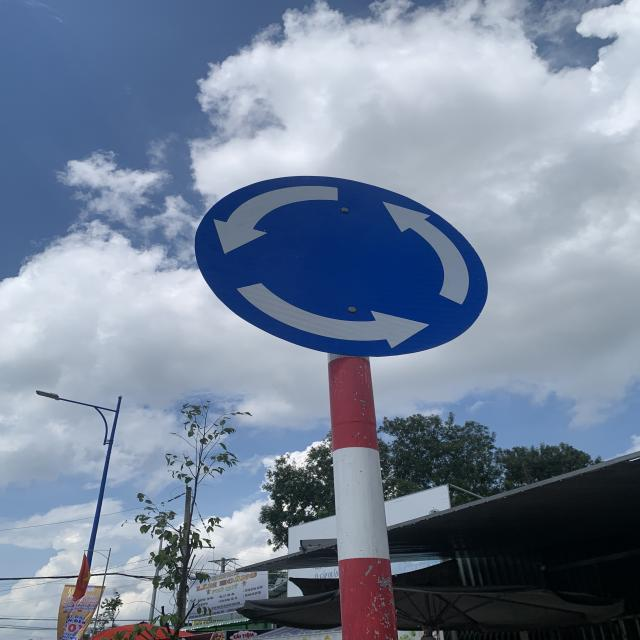Xe_Bus: (195, 169, 489, 355)
